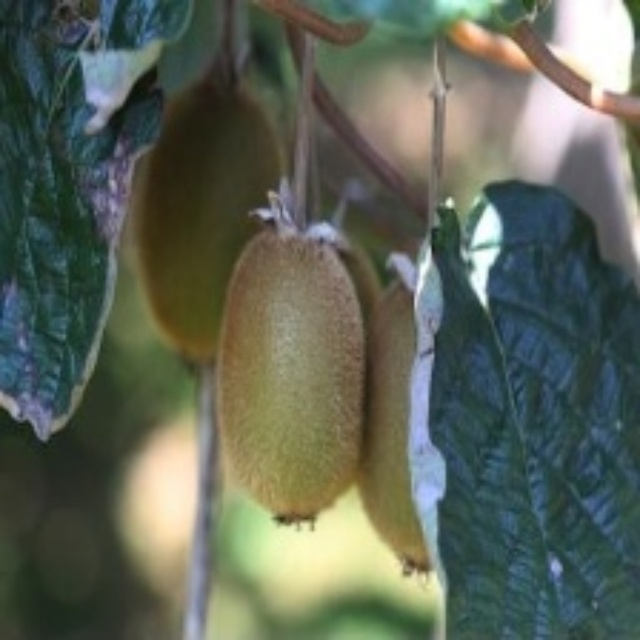kiwi: (141, 76, 281, 363), (228, 240, 354, 515), (337, 289, 451, 571)
